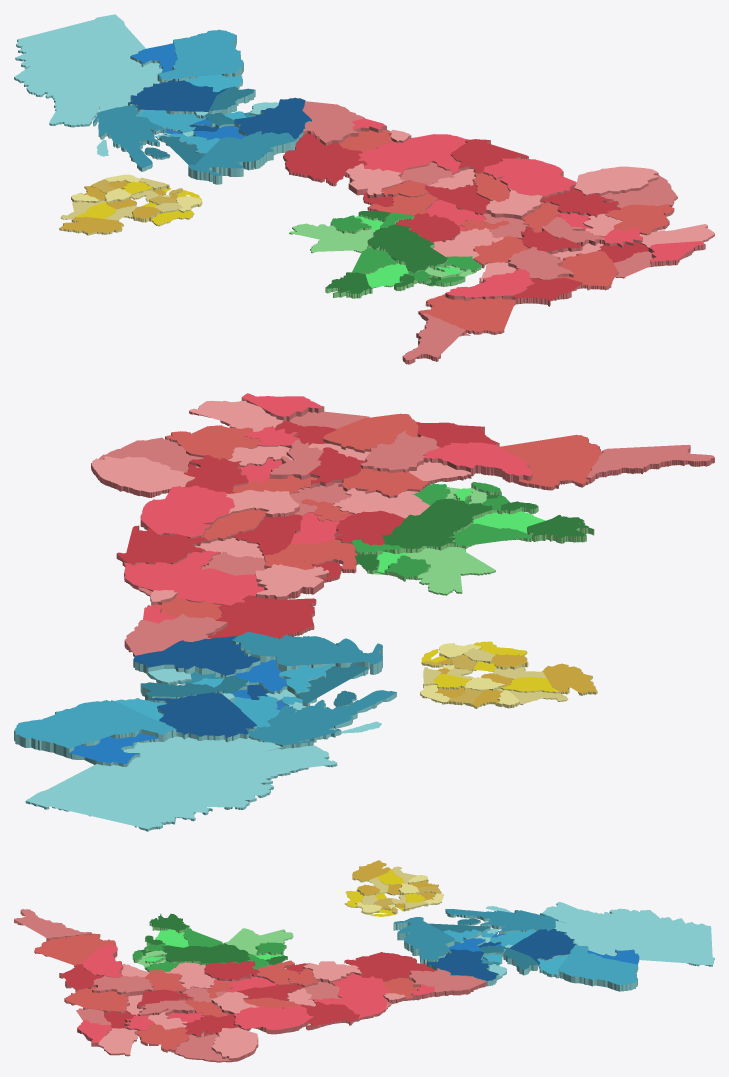
Rendered from ukmapcolor.fbx.
The picture shows the model from 3 angles, top to bottom: view 1: azimuth 30°, elevation 25°; view 2: azimuth 150°, elevation 25°; view 3: azimuth 270°, elevation 25°; orthographic projection. The views are drawn at different scales.
Parts seen in each view (by area): view 1: England.002, Scotland.002, Wales.002, Northern Ireland.002; view 2: England.002, Scotland.002, Wales.002, Northern Ireland.002; view 3: England.002, Scotland.002, Wales.002, Northern Ireland.002.
Part boxes in pixels (x1=…): England.002: x1=283, y1=101, x2=714, y2=364; Scotland.002: x1=14, y1=14, x2=311, y2=184; Wales.002: x1=289, y1=211, x2=481, y2=298; Northern Ireland.002: x1=59, y1=174, x2=202, y2=235; England.002: x1=91, y1=393, x2=714, y2=656; Scotland.002: x1=14, y1=631, x2=396, y2=831; Wales.002: x1=351, y1=482, x2=594, y2=595; Northern Ireland.002: x1=420, y1=641, x2=597, y2=708; England.002: x1=14, y1=909, x2=486, y2=1062; Scotland.002: x1=393, y1=902, x2=714, y2=991; Wales.002: x1=132, y1=913, x2=293, y2=972; Northern Ireland.002: x1=344, y1=860, x2=443, y2=916.
Bounding box in the file's own units: 244 × 4.01 × 363.
